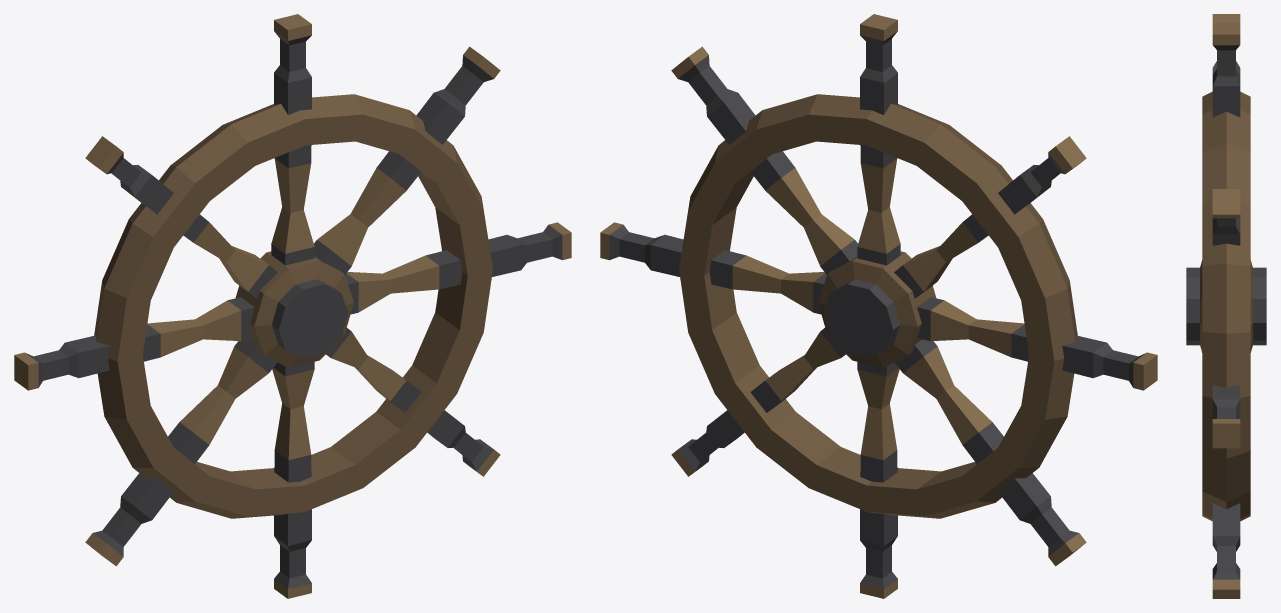
Rendered from SM_Prop_ShipWheel_01.glb.
The picture shows the model from 3 angles, left to right: view 1: azimuth 30°, elevation 25°; view 2: azimuth 150°, elevation 25°; view 3: azimuth 270°, elevation 25°; orthographic projection. The views are drawn at different scales.
Visible parts, largest first — view 1: SM_Prop_ShipWheel_01; view 2: SM_Prop_ShipWheel_01; view 3: SM_Prop_ShipWheel_01.
Part boxes in pixels (x1,y1,x2,y2): SM_Prop_ShipWheel_01: (14, 14, 571, 598); SM_Prop_ShipWheel_01: (600, 14, 1157, 598); SM_Prop_ShipWheel_01: (1186, 14, 1266, 598).
Size of the model in its own units: 0.0116 by 0.0116 by 0.00151.
